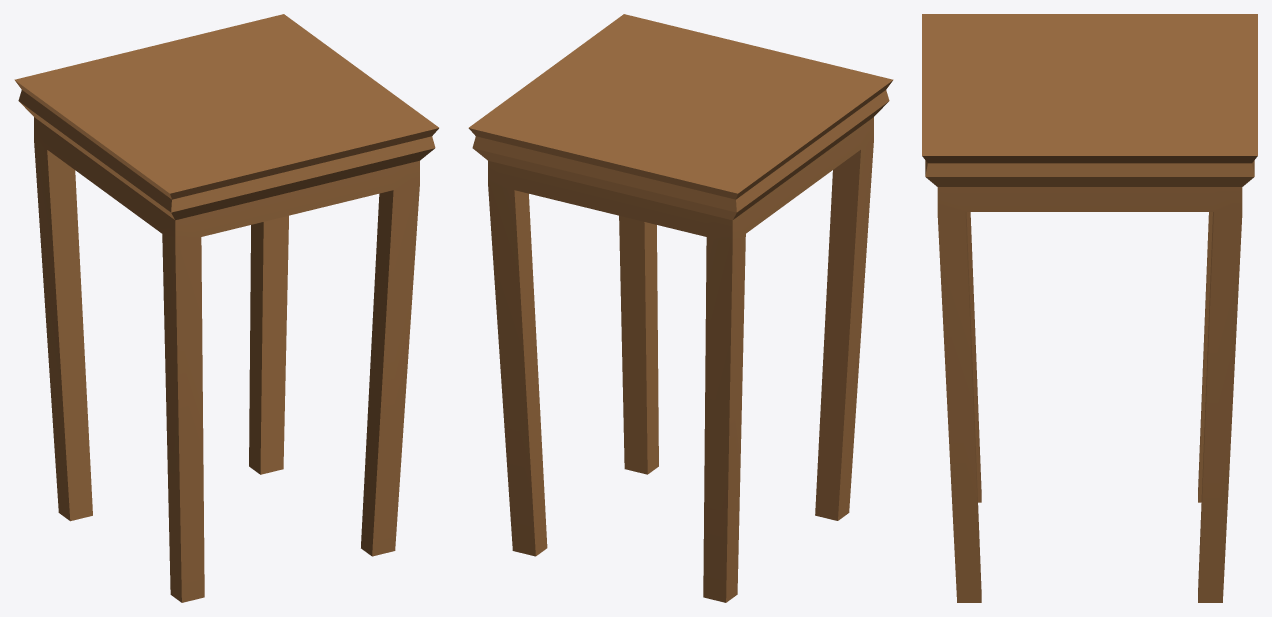
The model's file is smalltable.fbx.
The picture shows the model from 3 angles, left to right: view 1: azimuth 30°, elevation 25°; view 2: azimuth 150°, elevation 25°; view 3: azimuth 270°, elevation 25°; orthographic projection. The views are drawn at different scales.
Parts seen in each view (by area): view 1: table; view 2: table; view 3: table.
Part boxes in pixels (x1,y1,x2,y2): table: (14,14,438,602); table: (468,14,893,602); table: (922,14,1257,602).
Size of the model in its own units: 341 by 518 by 341.
